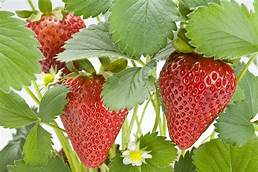Fresa: (155, 40, 238, 153), (53, 70, 134, 170), (18, 6, 93, 78)
